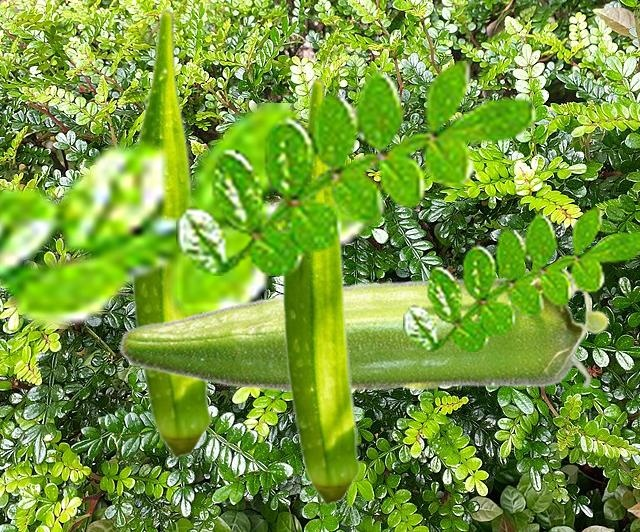okra: (118, 269, 608, 392), (129, 8, 211, 458), (282, 77, 360, 505)
